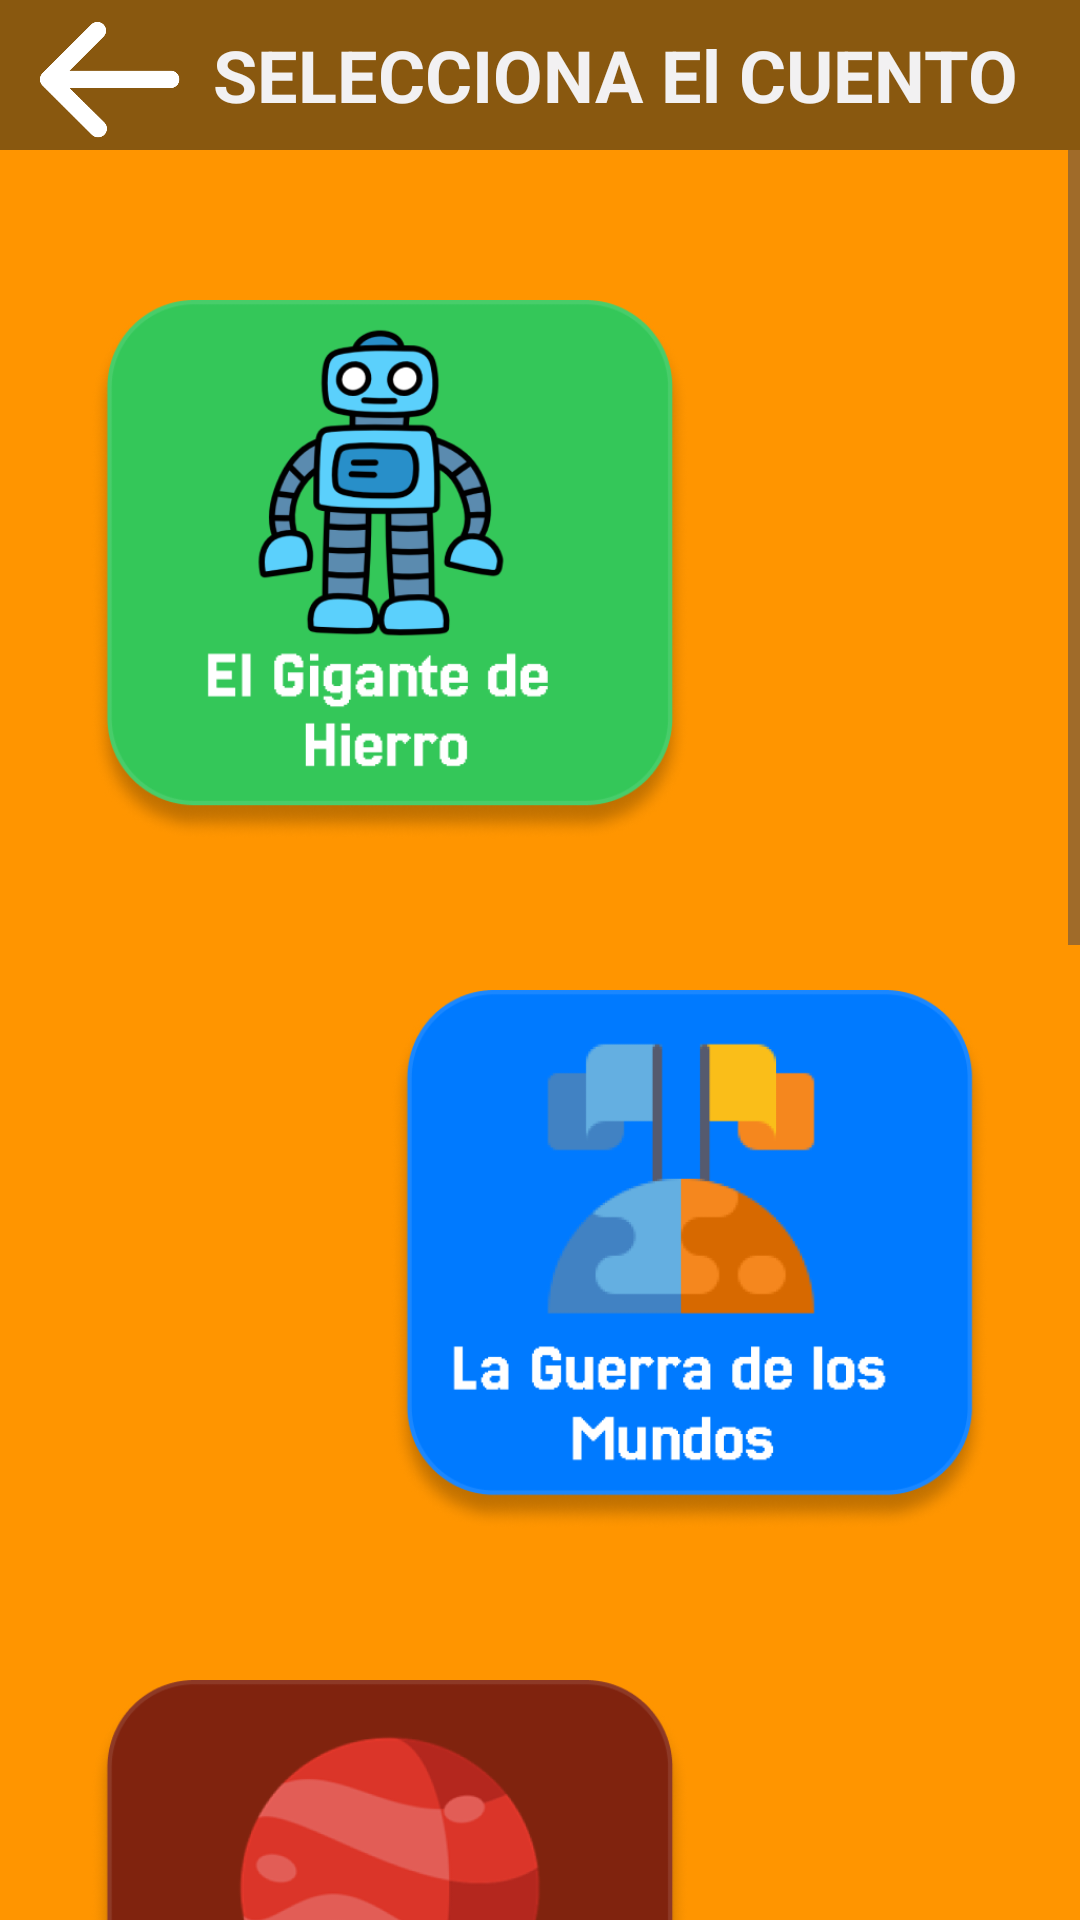

Icon bounding boxes for this 1080w x 1920h phone screenshot, format (x1=x1, y1=y1, x2=x2, y2=y2):
flecha izquierda: (x1=40, y1=22, x2=180, y2=138)
